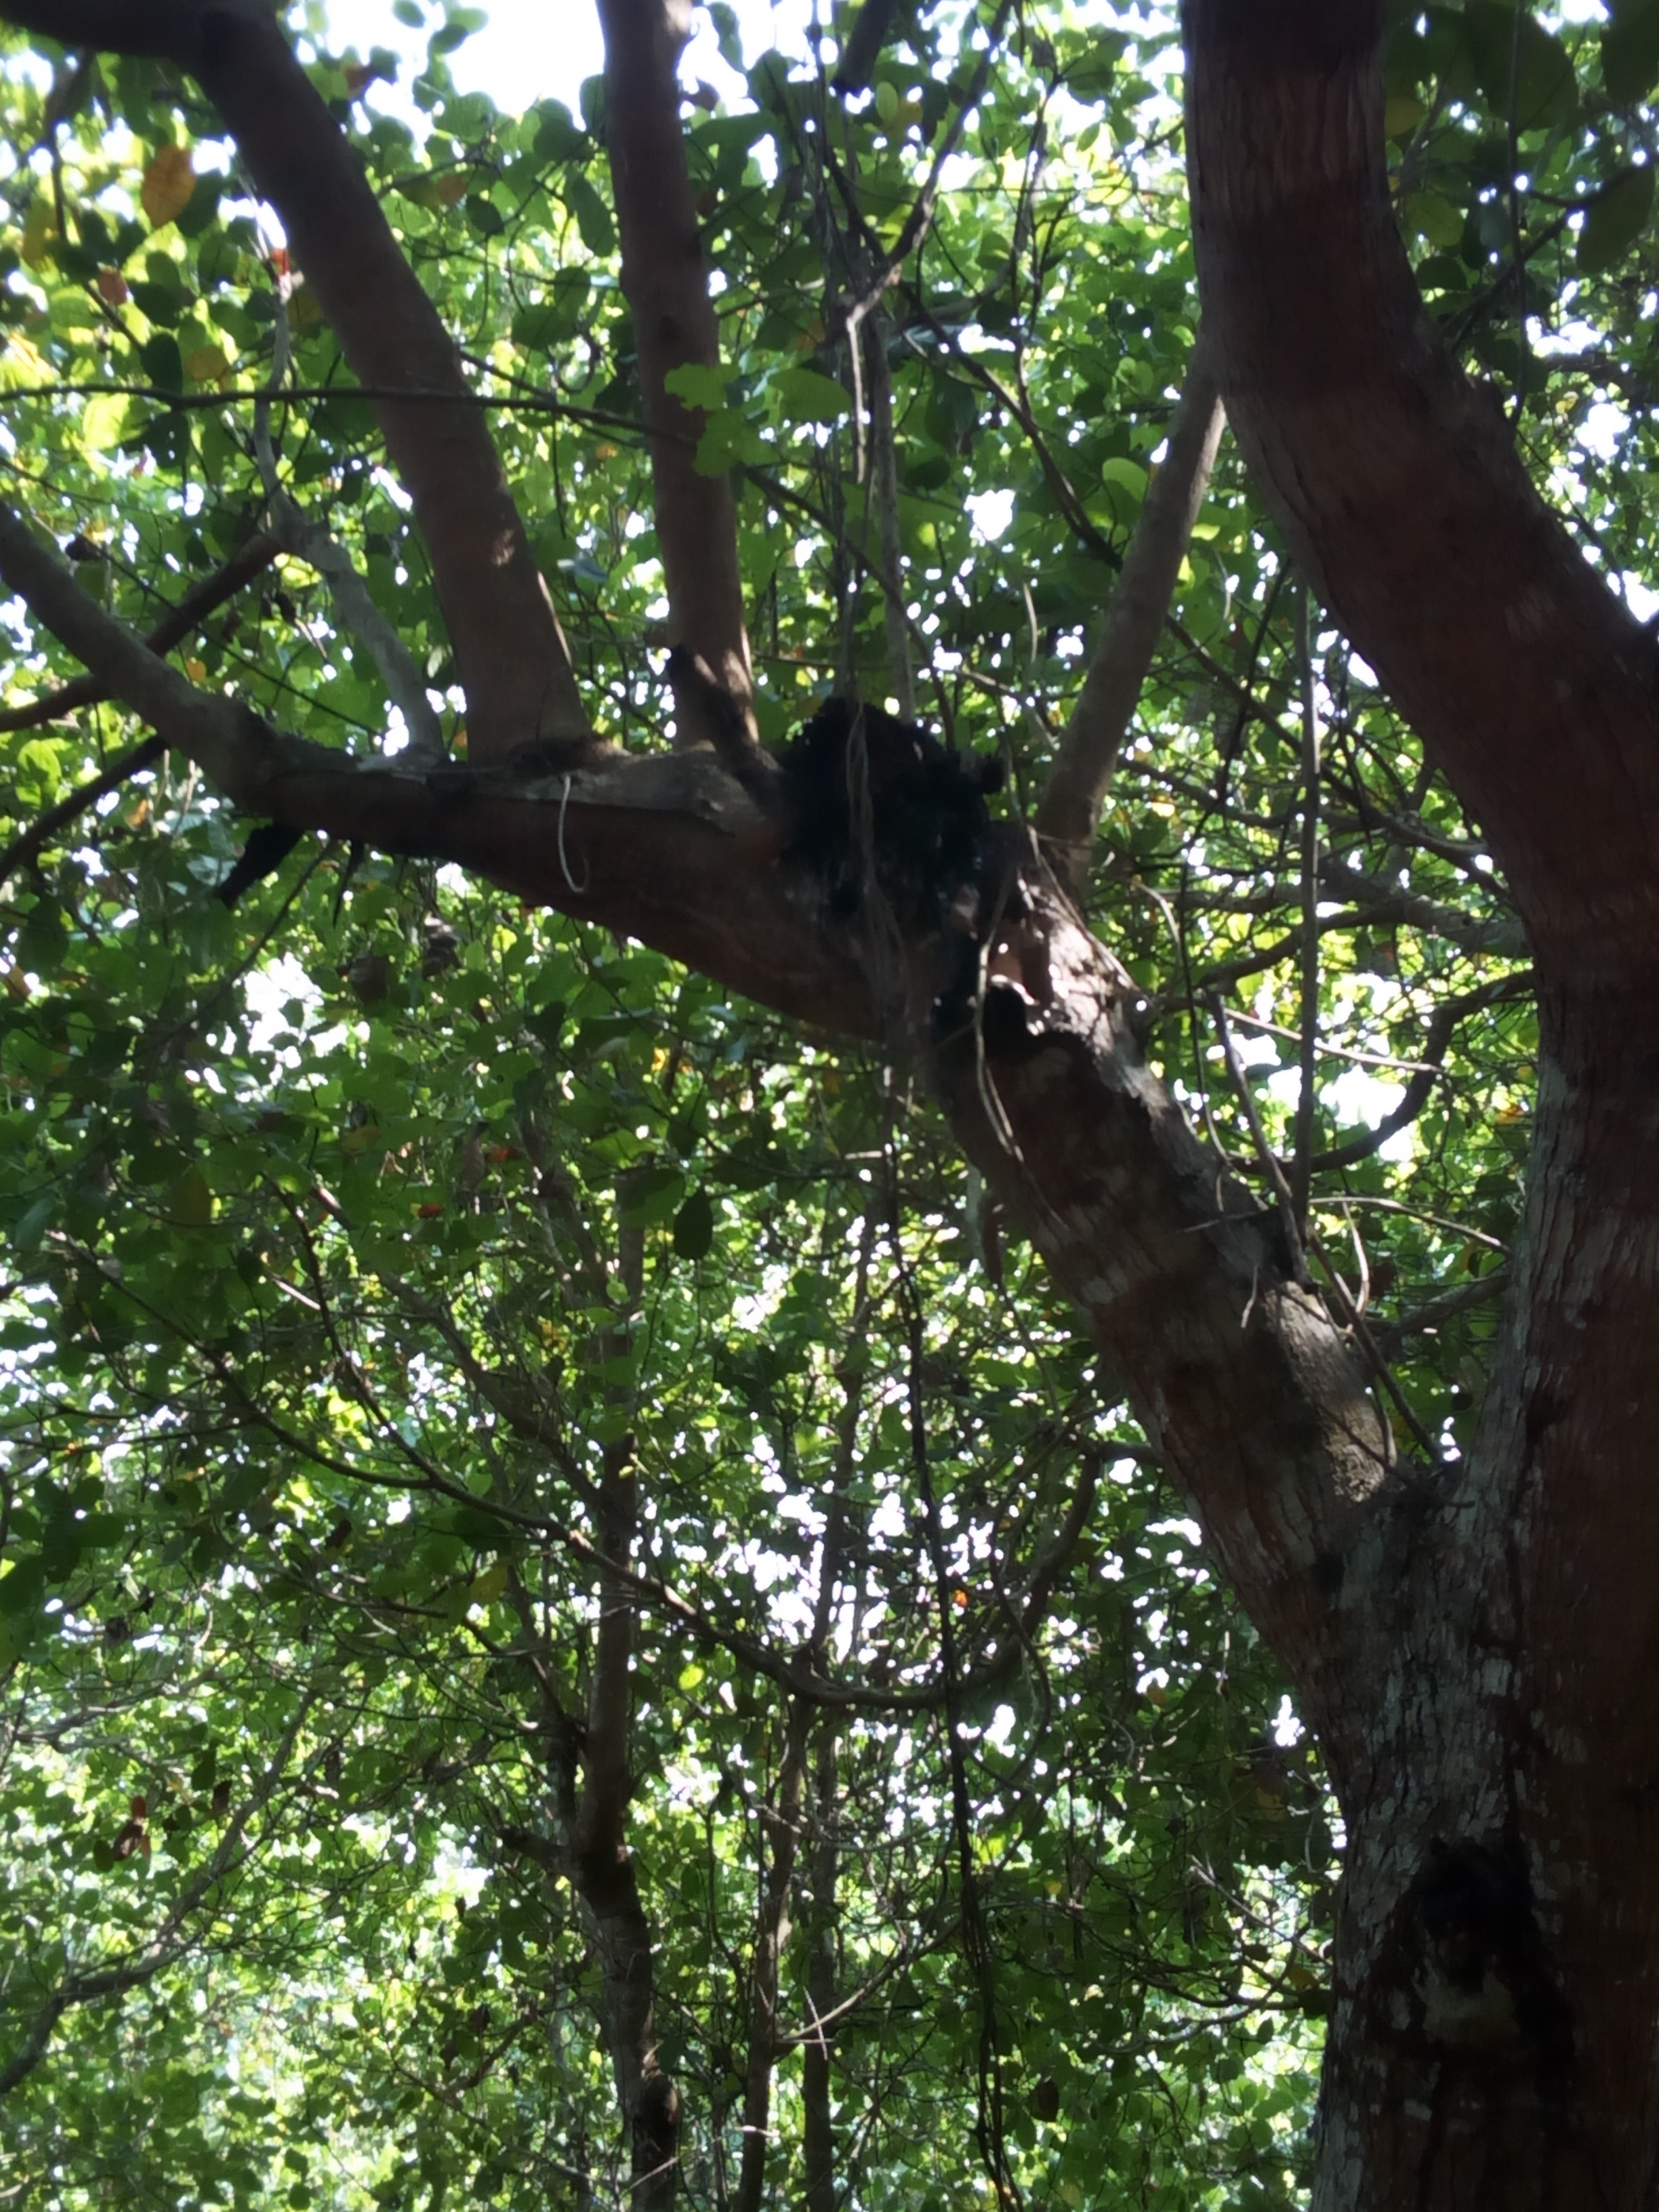Gommose: (1351, 1811, 1593, 2127)
